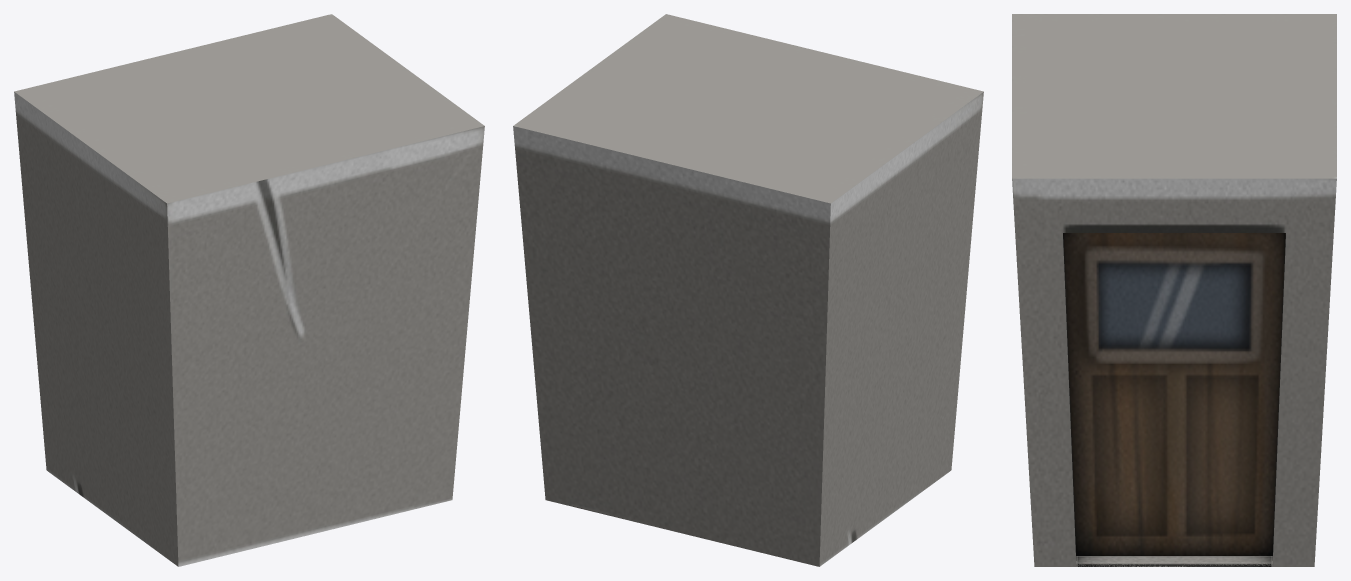
File: Prop_TopBuilding.FBX
The picture shows the model from 3 angles, left to right: view 1: azimuth 30°, elevation 25°; view 2: azimuth 150°, elevation 25°; view 3: azimuth 270°, elevation 25°; orthographic projection. The views are drawn at different scales.
Visible parts, largest first — view 1: Box002; view 2: Box002; view 3: Box002.
Part boxes in pixels (<box>): Box002: <box>14,14,484,566</box>; Box002: <box>513,14,983,566</box>; Box002: <box>1012,14,1336,566</box>.
Size of the model in its own units: 151 by 171 by 126.
